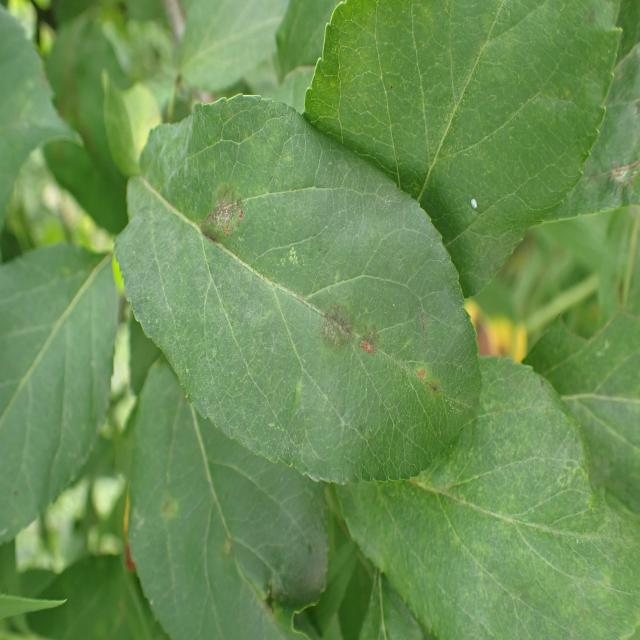scab: (149, 156, 468, 461), (467, 353, 640, 640), (150, 477, 322, 626)
